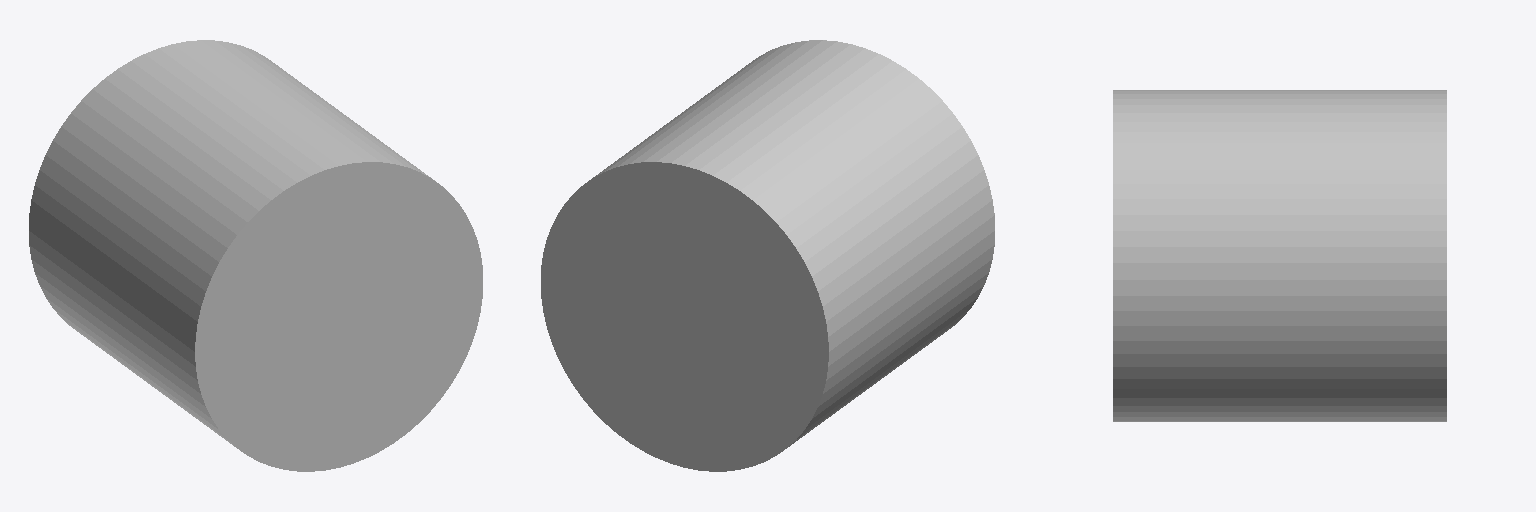
The model's file is Erdkern2.obj.
3 renders of one model, left to right at view 1: azimuth 30°, elevation 25°; view 2: azimuth 150°, elevation 25°; view 3: azimuth 270°, elevation 25°, orthographic.
Parts seen in each view (by area): view 1: Erdkern02_Cylinder.001; view 2: Erdkern02_Cylinder.001; view 3: Erdkern02_Cylinder.001.
Part boxes in pixels (bbox=[...]): Erdkern02_Cylinder.001: bbox=[29, 40, 482, 471]; Erdkern02_Cylinder.001: bbox=[541, 40, 994, 471]; Erdkern02_Cylinder.001: bbox=[1113, 90, 1446, 421].
Bounding box in the file's own units: 2 × 2 × 2.